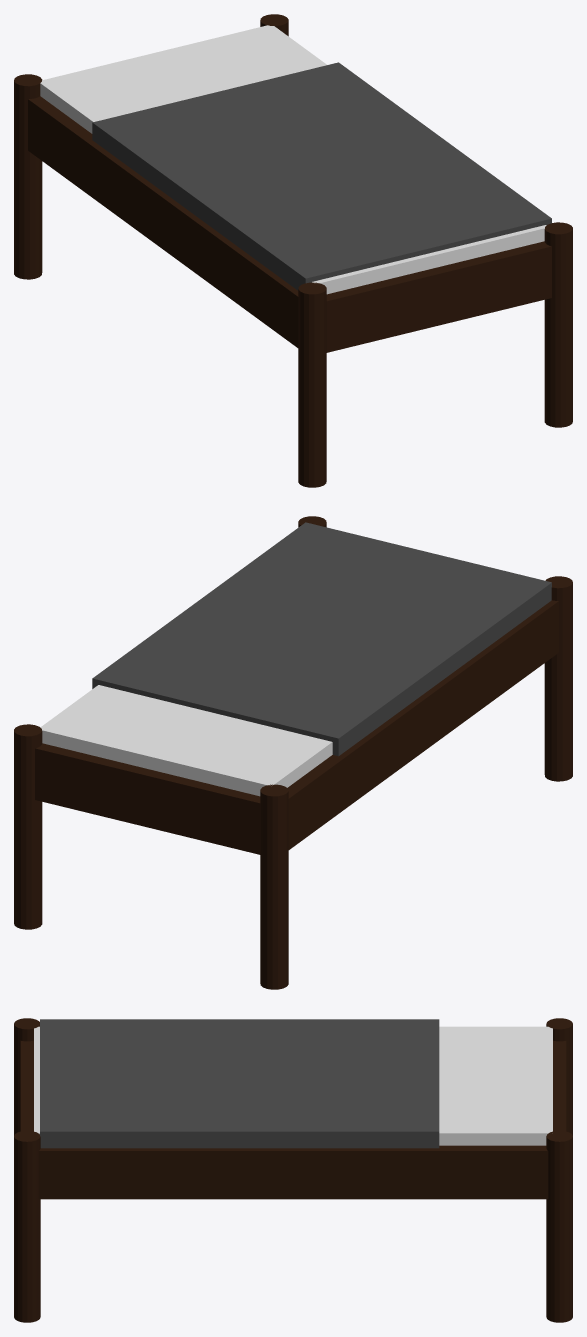
File: Bed.glb
3 views of the same model, one above another, from view 1: azimuth 30°, elevation 25°; view 2: azimuth 150°, elevation 25°; view 3: azimuth 270°, elevation 25° (orthographic). The views are drawn at different scales.
Visible parts, largest first — view 1: Cube, Cube.005, Cube.003, Cube.001, Cylinder, Cylinder.003, Cylinder.002; view 2: Cube, Cube.005, Cube.003, Cube.004, Cylinder.002, Cylinder.001, Cylinder; view 3: Cube, Cube.002, Cube.005, Cylinder.001, Cylinder.003, Cube.001, Cube.004, Cylinder.002, Cylinder.
Boxes of the visible parts, bbox=[...] form: Cube: bbox=[92, 62, 551, 290]; Cube.005: bbox=[40, 25, 546, 294]; Cube.003: bbox=[28, 96, 298, 347]; Cube.001: bbox=[326, 241, 551, 352]; Cylinder: bbox=[298, 282, 326, 487]; Cylinder.003: bbox=[544, 222, 572, 427]; Cylinder.002: bbox=[14, 74, 42, 279]; Cube: bbox=[92, 522, 551, 756]; Cube.005: bbox=[40, 685, 332, 796]; Cube.003: bbox=[287, 600, 558, 849]; Cube.004: bbox=[35, 743, 260, 854]; Cylinder.002: bbox=[260, 784, 288, 989]; Cylinder.001: bbox=[14, 724, 42, 929]; Cylinder: bbox=[544, 576, 572, 781]; Cube: bbox=[40, 1019, 439, 1148]; Cube.002: bbox=[38, 1145, 548, 1199]; Cube.005: bbox=[34, 1026, 552, 1145]; Cylinder.001: bbox=[546, 1130, 572, 1322]; Cylinder.003: bbox=[14, 1130, 40, 1322]; Cube.001: bbox=[20, 1040, 33, 1131]; Cube.004: bbox=[553, 1040, 566, 1131]; Cylinder.002: bbox=[546, 1018, 572, 1135]; Cylinder: bbox=[14, 1018, 39, 1135].
Bounding box in the file's own units: 1.1 × 0.7687 × 2.1.
